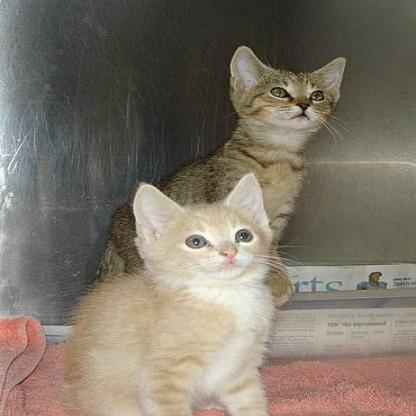cat: (100, 170, 320, 328), (184, 27, 390, 164)
